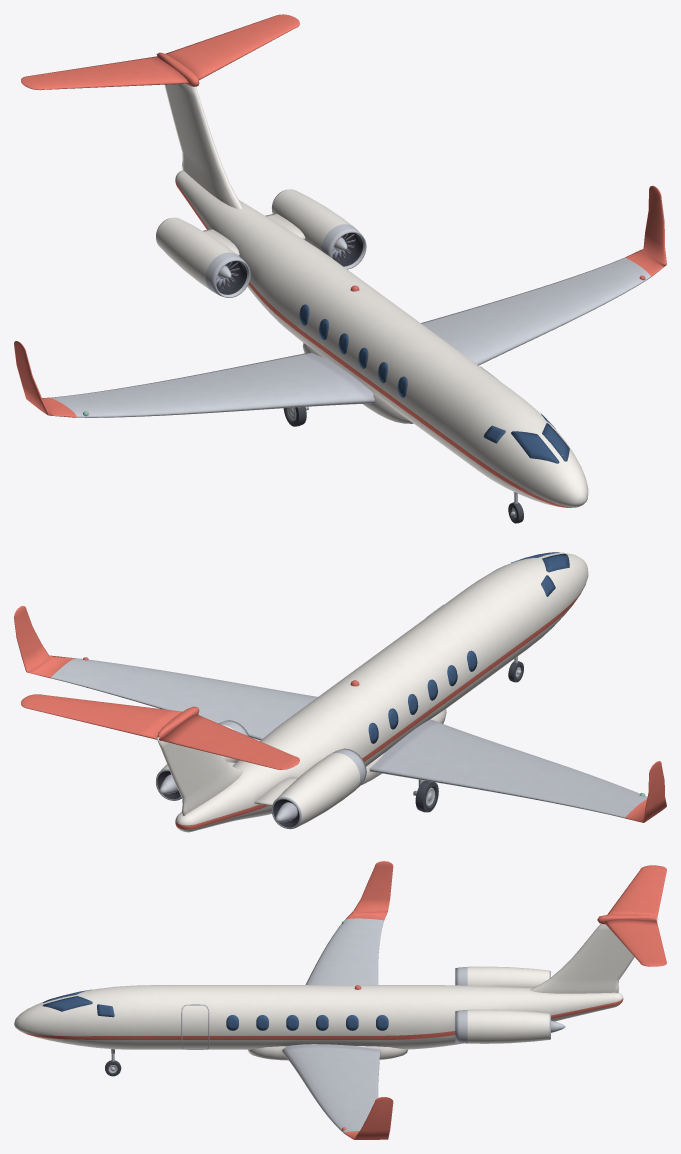
File: private-jet.glb
3 renders of one model, top to bottom at view 1: azimuth 30°, elevation 25°; view 2: azimuth 150°, elevation 25°; view 3: azimuth 270°, elevation 25°, orthographic. The views are drawn at different scales.
Parts seen in each view (by area): view 1: private-jet_body, private-jet_windows; view 2: private-jet_body, private-jet_windows, private-jet_wheel_main_r; view 3: private-jet_body, private-jet_windows.
Part boxes in pixels (box(x1,y1,x2,y2)): private-jet_body: box(14, 14, 666, 515); private-jet_windows: box(299, 304, 569, 463); private-jet_body: box(14, 552, 666, 832); private-jet_windows: box(368, 552, 569, 743); private-jet_wheel_main_r: box(415, 780, 438, 812); private-jet_body: box(14, 861, 666, 1139); private-jet_windows: box(42, 989, 388, 1030).
Bounding box in the file's own units: 14.94 × 4.74 × 17.47.
11 materials, 1 textured.
